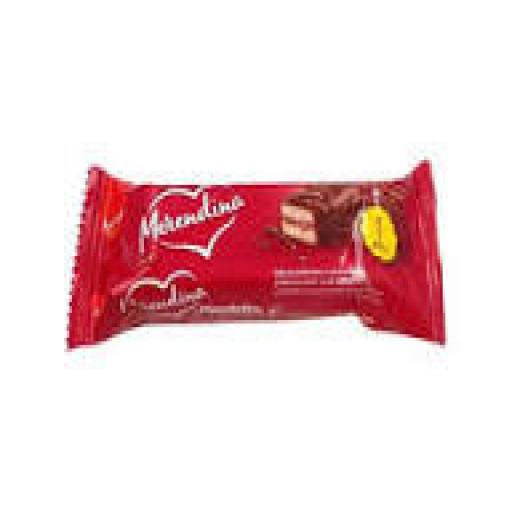merendina: (71, 143, 457, 364)
